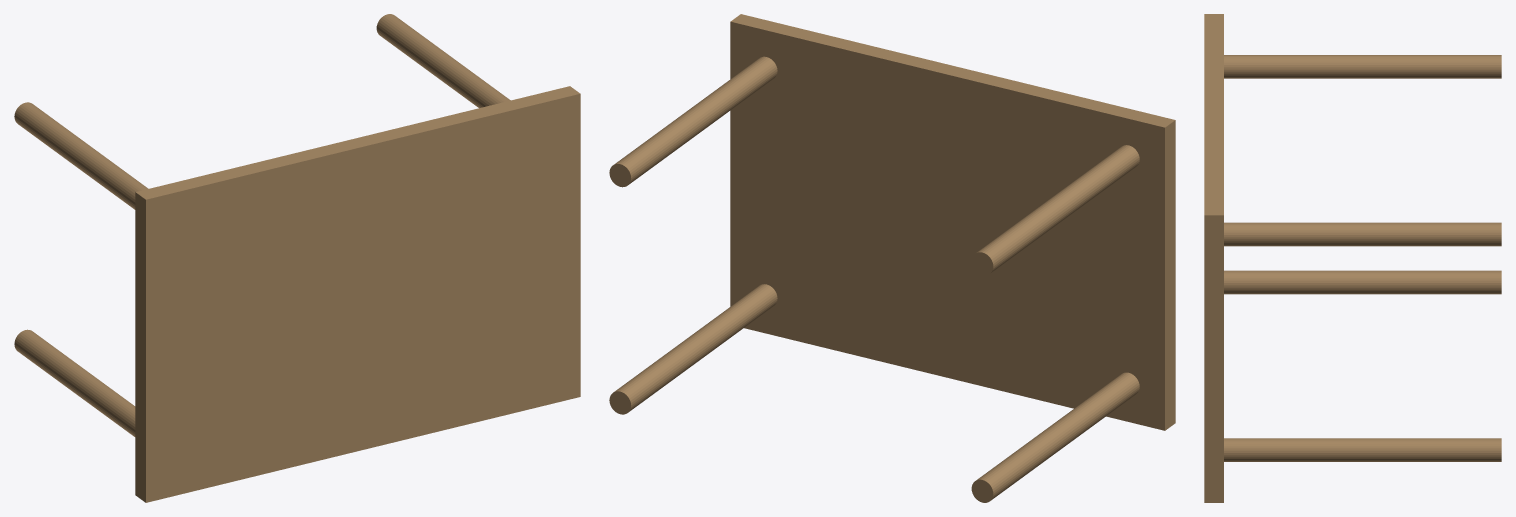
3 renders of one model, left to right at view 1: azimuth 30°, elevation 25°; view 2: azimuth 150°, elevation 25°; view 3: azimuth 270°, elevation 25°, orthographic. The views are drawn at different scales.
Parts seen in each view (by area): view 1: geometry_0; view 2: geometry_0; view 3: geometry_0.
Part boxes in pixels (x1=…): geometry_0: x1=14, y1=14, x2=580, y2=502; geometry_0: x1=609, y1=14, x2=1175, y2=502; geometry_0: x1=1204, y1=14, x2=1501, y2=502.
Size of the model in its own units: 1.2 by 0.8 by 0.75.
